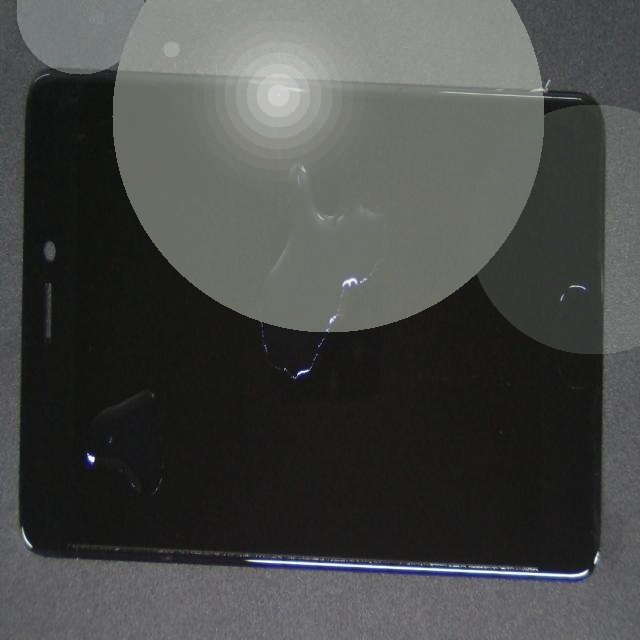oil: (134, 114, 392, 455), (105, 249, 255, 628)
